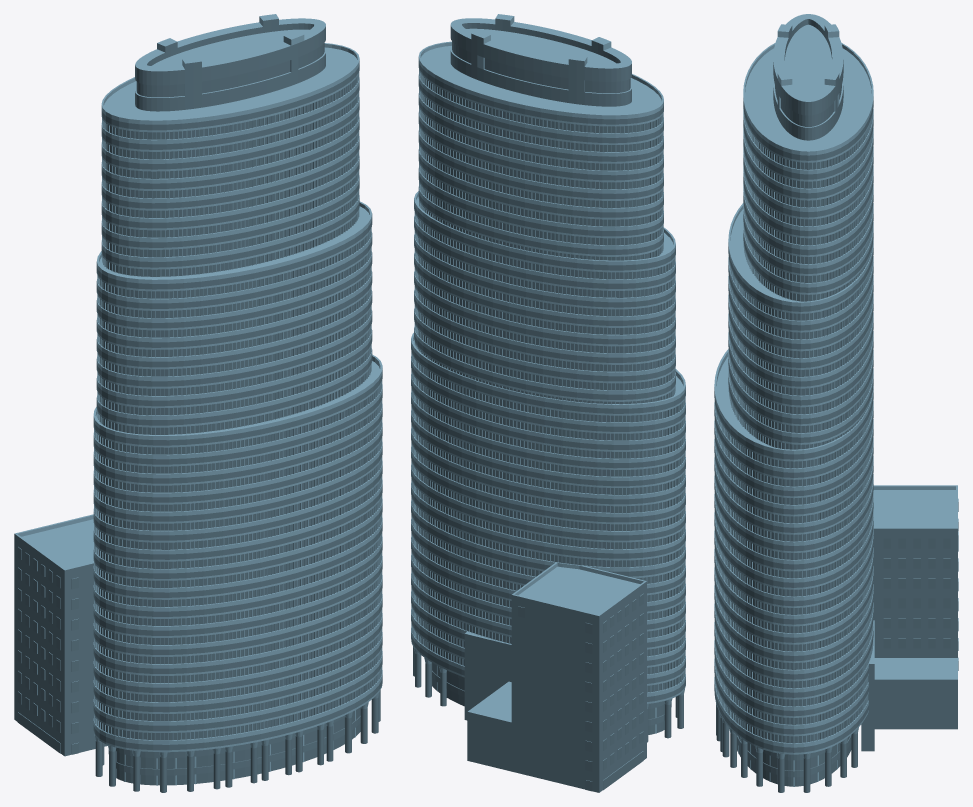
The picture shows the model from 3 angles, left to right: view 1: azimuth 30°, elevation 25°; view 2: azimuth 150°, elevation 25°; view 3: azimuth 270°, elevation 25°; orthographic projection. The views are drawn at different scales.
Parts seen in each view (by area): view 1: building, buildingDarker, building_windows; view 2: building, buildingDarker, building_windows; view 3: building, buildingDarker, building_windows.
Boxes of the visible parts, x1,y1,x2,y2 form: building: (14,14,382,785); buildingDarker: (14,19,382,792); building_windows: (17,43,377,785); building: (411,14,685,789); buildingDarker: (411,18,685,792); building_windows: (416,41,680,791); building: (714,14,958,786); buildingDarker: (714,19,957,792); building_windows: (726,85,950,786).
Bounding box in the file's own units: 59.75 × 145 × 47.31.
